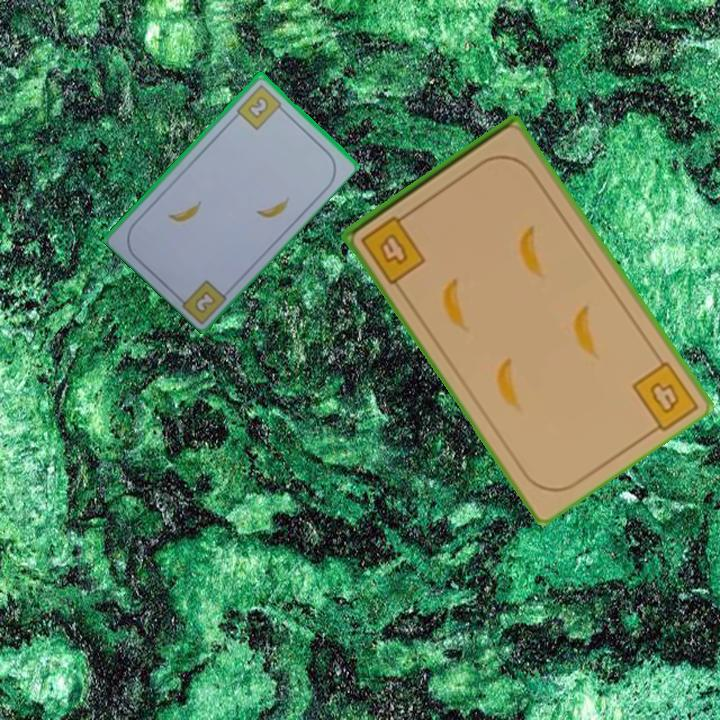2b: (233, 80, 288, 132), (191, 287, 219, 316)
4b: (357, 208, 429, 287), (646, 378, 684, 417)
